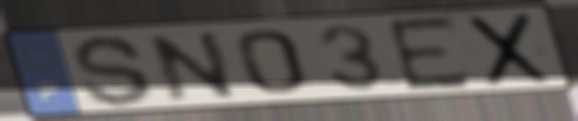0: (232, 28, 313, 97)
3: (316, 23, 386, 94)
E: (382, 13, 477, 94)
N: (144, 29, 242, 104)
S: (69, 33, 157, 109)
X: (464, 11, 554, 89)
